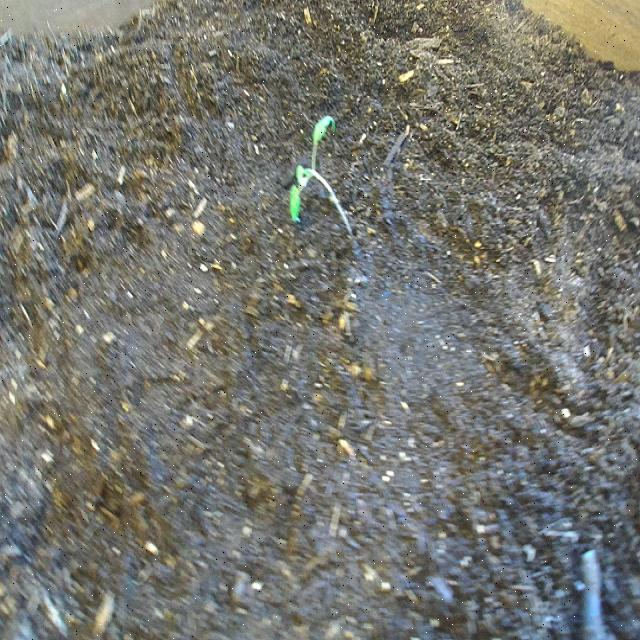Unhealthy: (284, 112, 358, 246)
